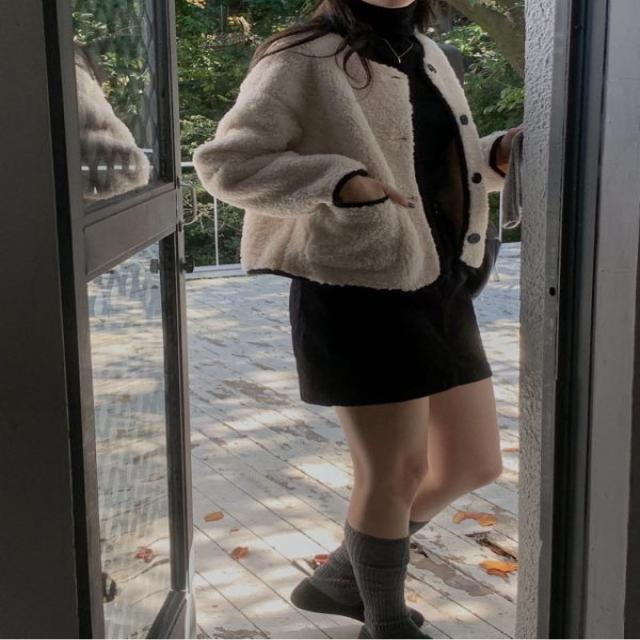jacket: (190, 24, 510, 292)
skirt: (288, 251, 491, 405)
